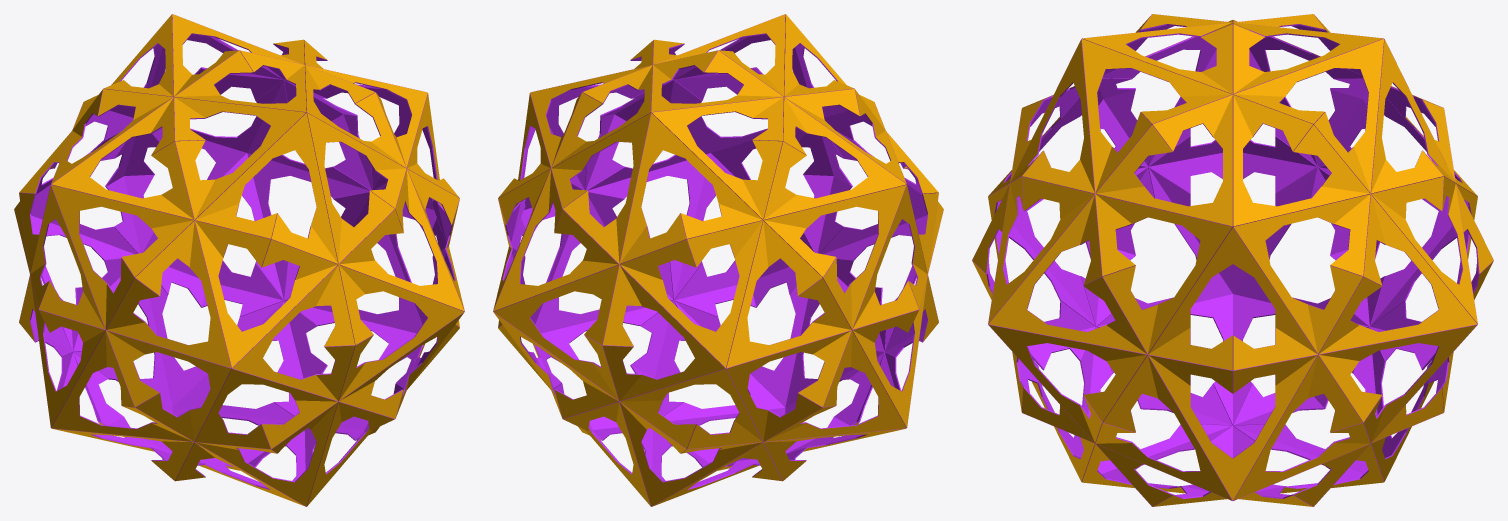
The model's file is MedialDeltoidalHexecontahedronS2.glb.
3 views of the same model, side by side, from view 1: azimuth 30°, elevation 25°; view 2: azimuth 150°, elevation 25°; view 3: azimuth 270°, elevation 25° (orthographic). The views are drawn at different scales.
Visible parts, largest first — view 1: Mesh_0004_1, Mesh_0004; view 2: Mesh_0004_1, Mesh_0004; view 3: Mesh_0004_1, Mesh_0004.
Part boxes in pixels (x1=…): Mesh_0004_1: x1=14, y1=14, x2=464, y2=506; Mesh_0004: x1=14, y1=14, x2=464, y2=506; Mesh_0004_1: x1=493, y1=14, x2=943, y2=506; Mesh_0004: x1=493, y1=14, x2=943, y2=506; Mesh_0004_1: x1=972, y1=14, x2=1493, y2=506; Mesh_0004: x1=972, y1=14, x2=1493, y2=506.
Bounding box in the file's own units: 9.39 × 9.39 × 9.39.
